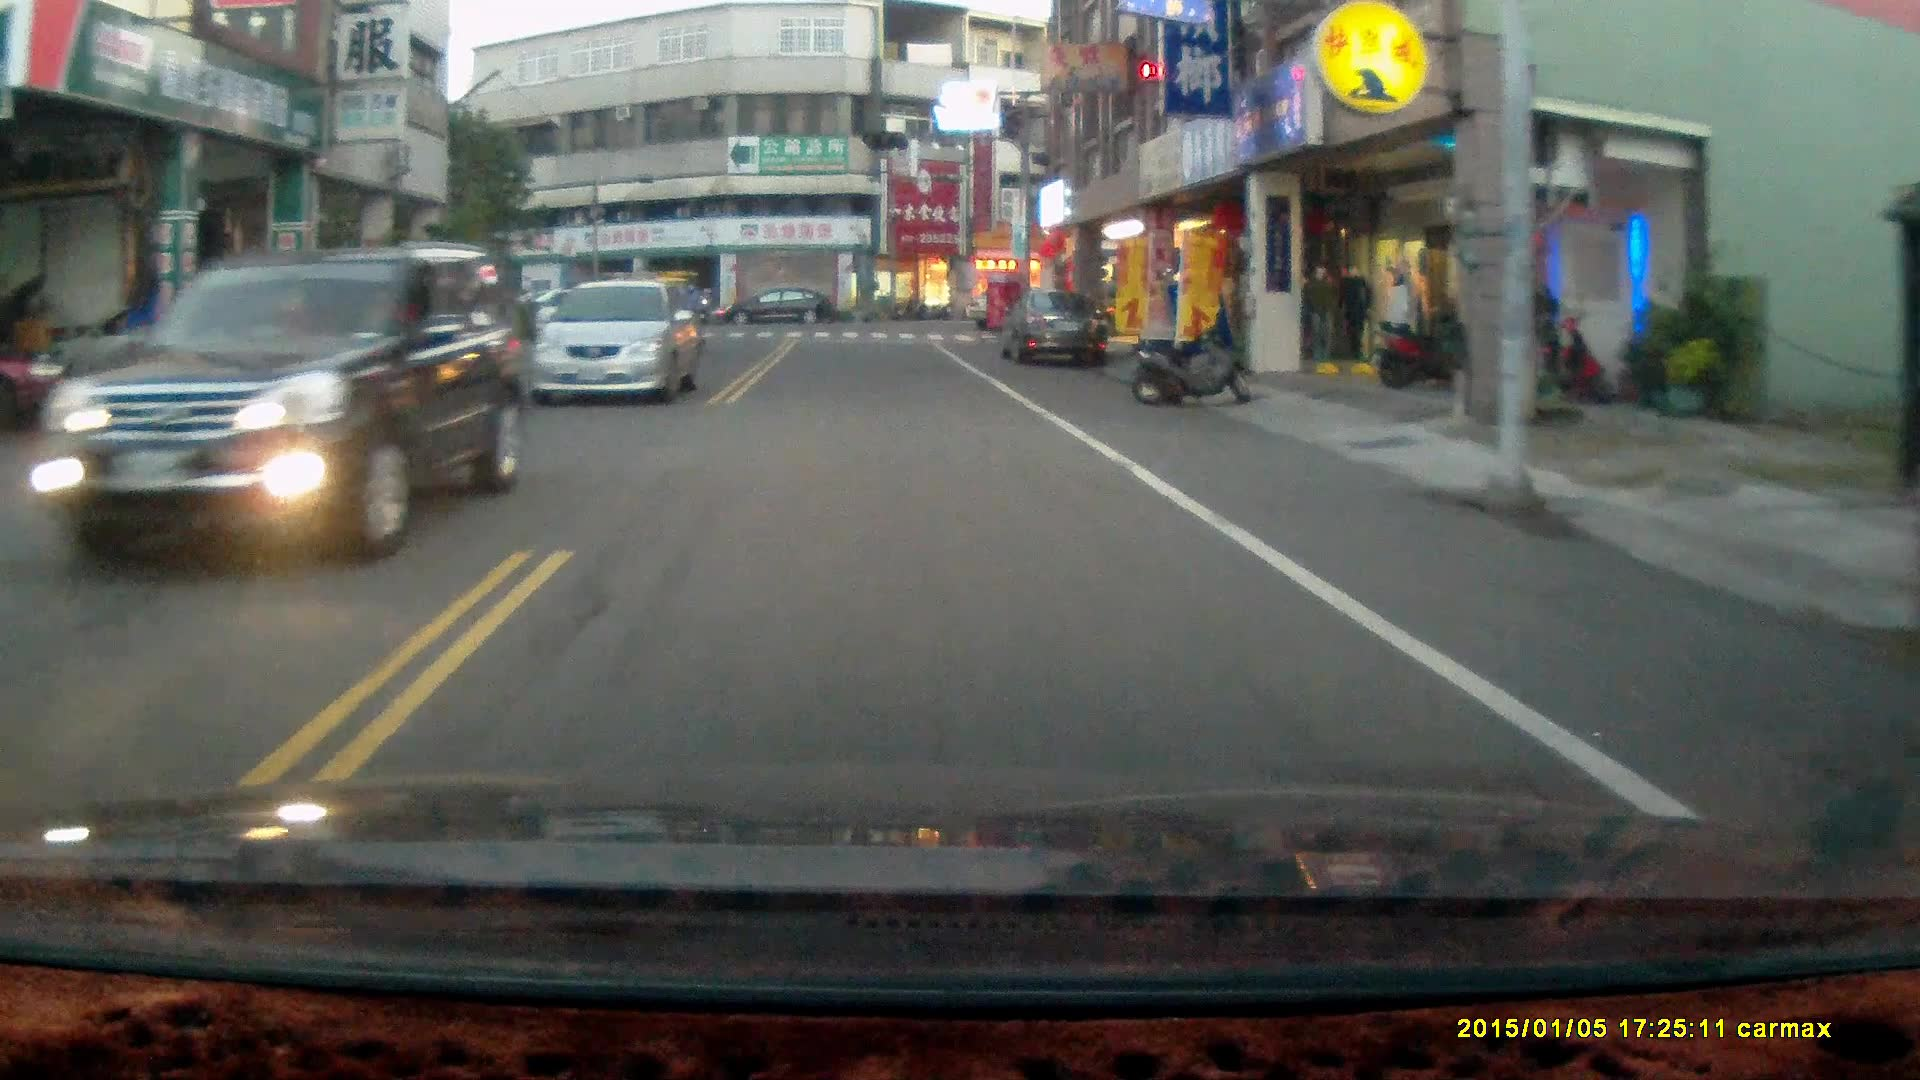pedestrian: (126, 260, 166, 398)
vehicle: (22, 244, 508, 582), (541, 280, 703, 407), (998, 286, 1112, 374), (717, 285, 837, 332)
